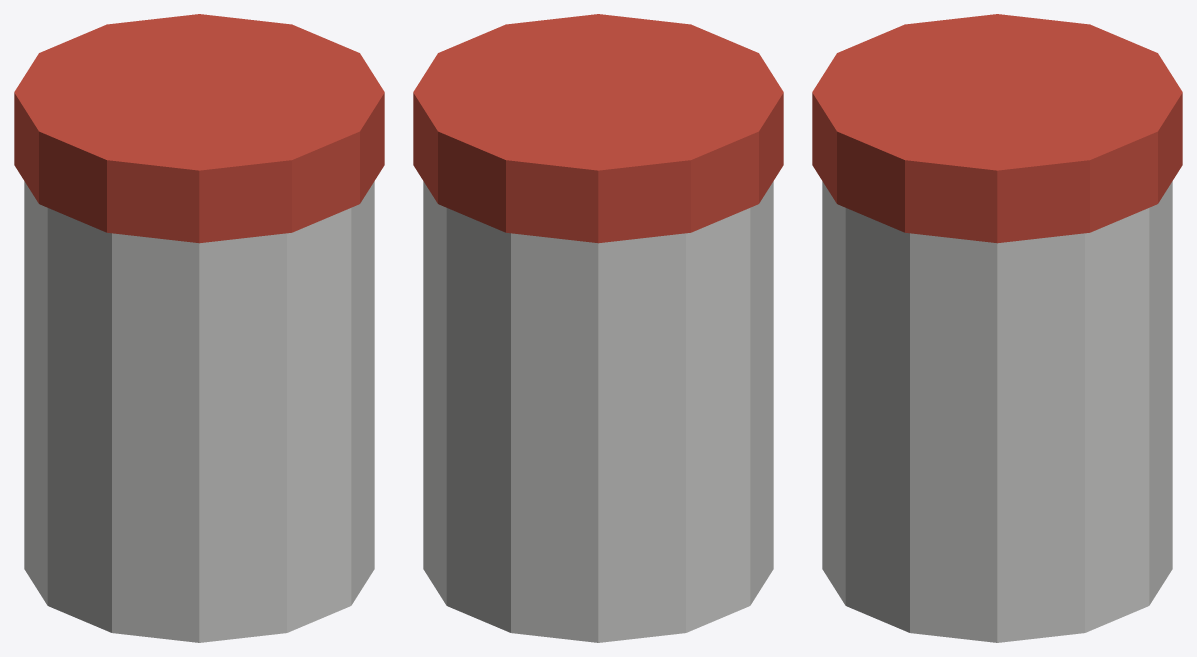
File: sal.glb
3 views of the same model, side by side, from view 1: azimuth 30°, elevation 25°; view 2: azimuth 150°, elevation 25°; view 3: azimuth 270°, elevation 25° (orthographic).
Visible parts, largest first — view 1: sal; view 2: sal; view 3: sal.
Boxes of the visible parts, x1,y1,x2,y2 form: sal: (14,14,384,642); sal: (413,14,783,642); sal: (812,14,1182,642).
Bounding box in the file's own units: 0.074 × 0.105 × 0.074.
